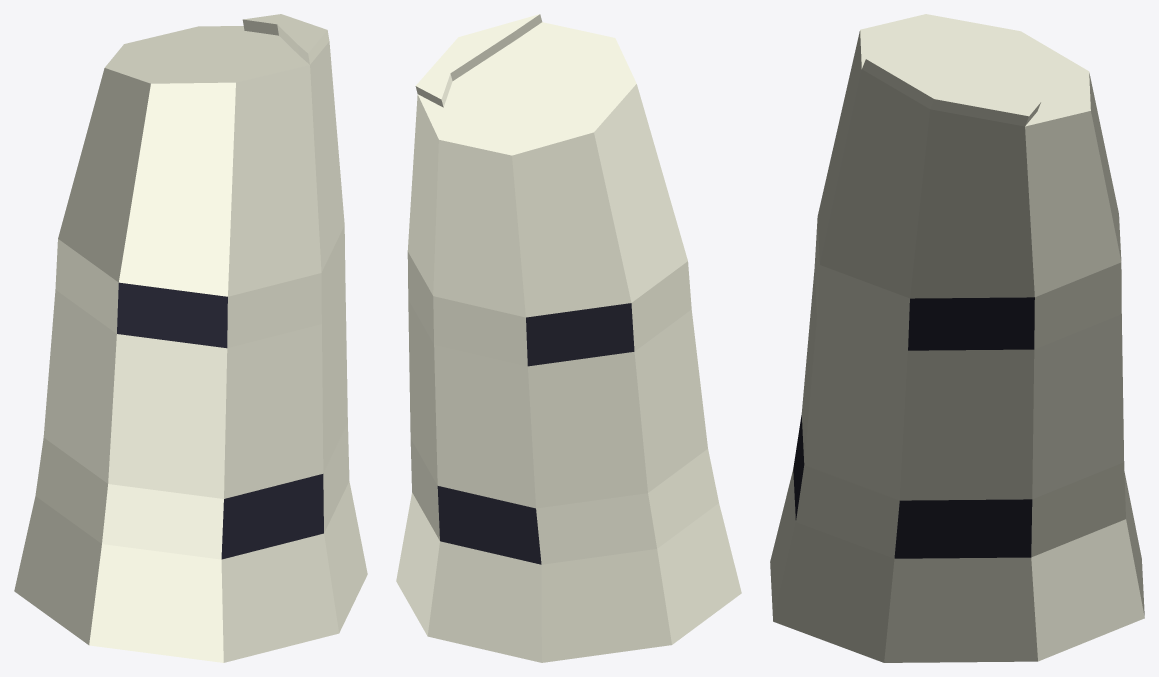
The model's file is Stump3_winter.FBX.
3 renders of one model, left to right at view 1: azimuth 30°, elevation 25°; view 2: azimuth 150°, elevation 25°; view 3: azimuth 270°, elevation 25°, orthographic. The views are drawn at different scales.
Parts seen in each view (by area): view 1: Berezka pen.007; view 2: Berezka pen.007; view 3: Berezka pen.007.
Part boxes in pixels (x1,y1,x2,y2): Berezka pen.007: [14, 14, 367, 662]; Berezka pen.007: [396, 14, 741, 662]; Berezka pen.007: [770, 14, 1144, 662].
Size of the model in its own units: 0.449 by 0.8236 by 0.4911.
